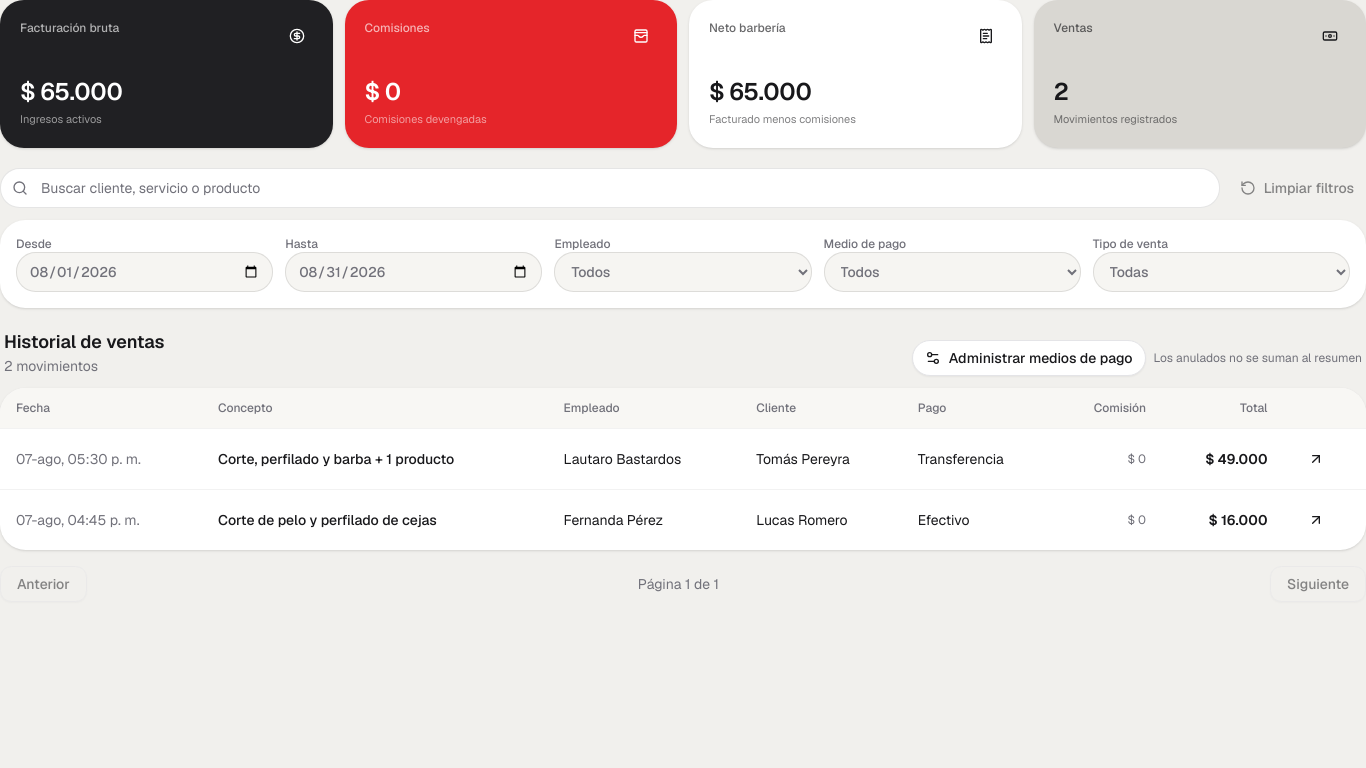
Test: IncomesView (manager) › keeps detail and exposes retry when voiding fails
Click the button named "abrir ingreso".
click(1316, 459)  # box [1300,443,1332,475]
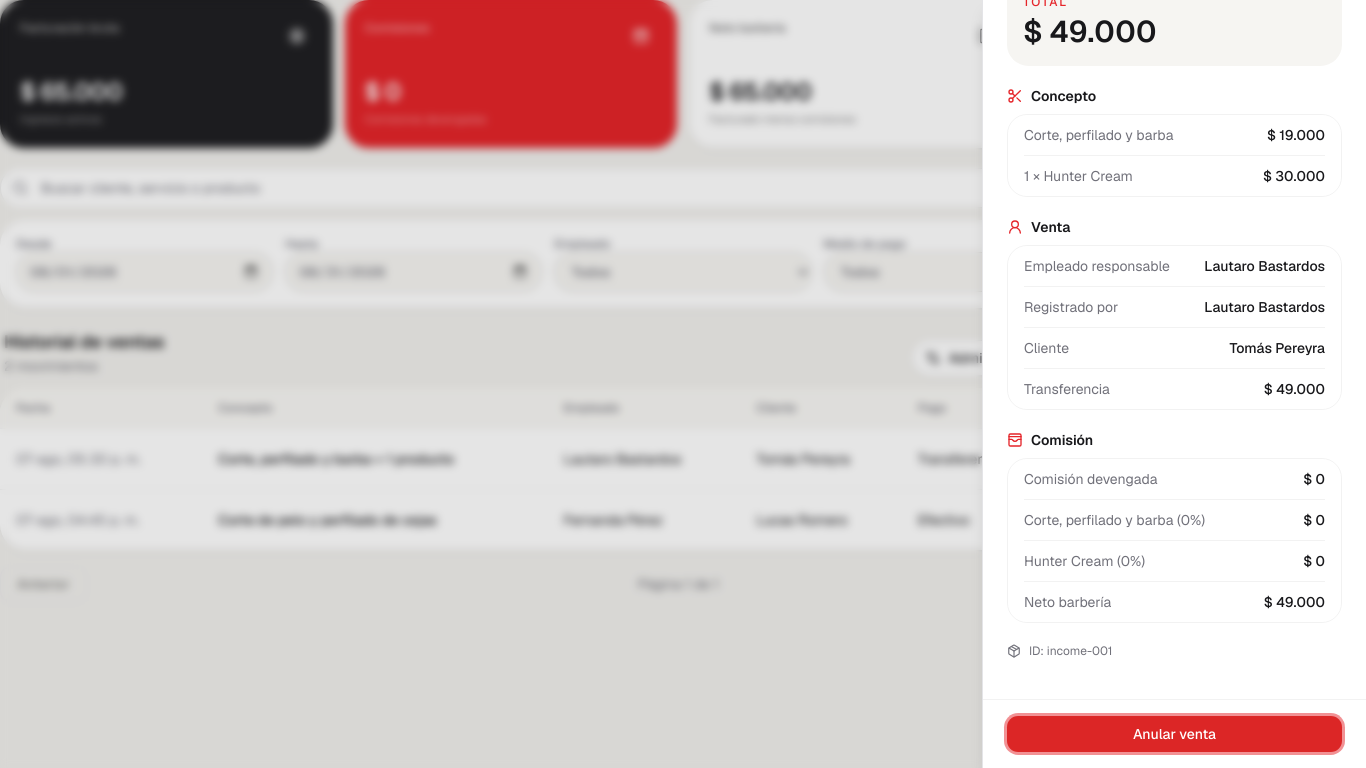
Click the button "Anular venta".
click(1174, 734)  # box [1007,716,1342,752]
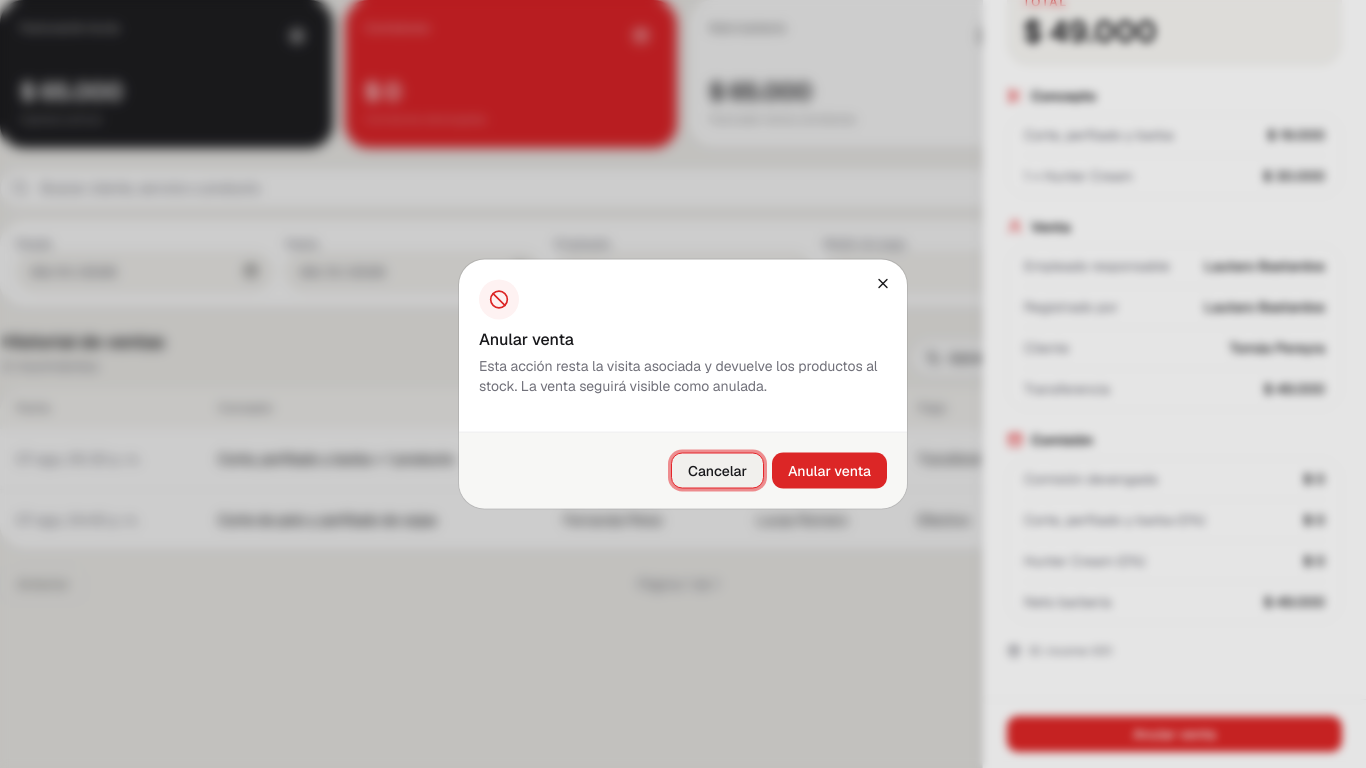
Click the button "Anular venta".
click(830, 470)  # box [772,452,887,488]
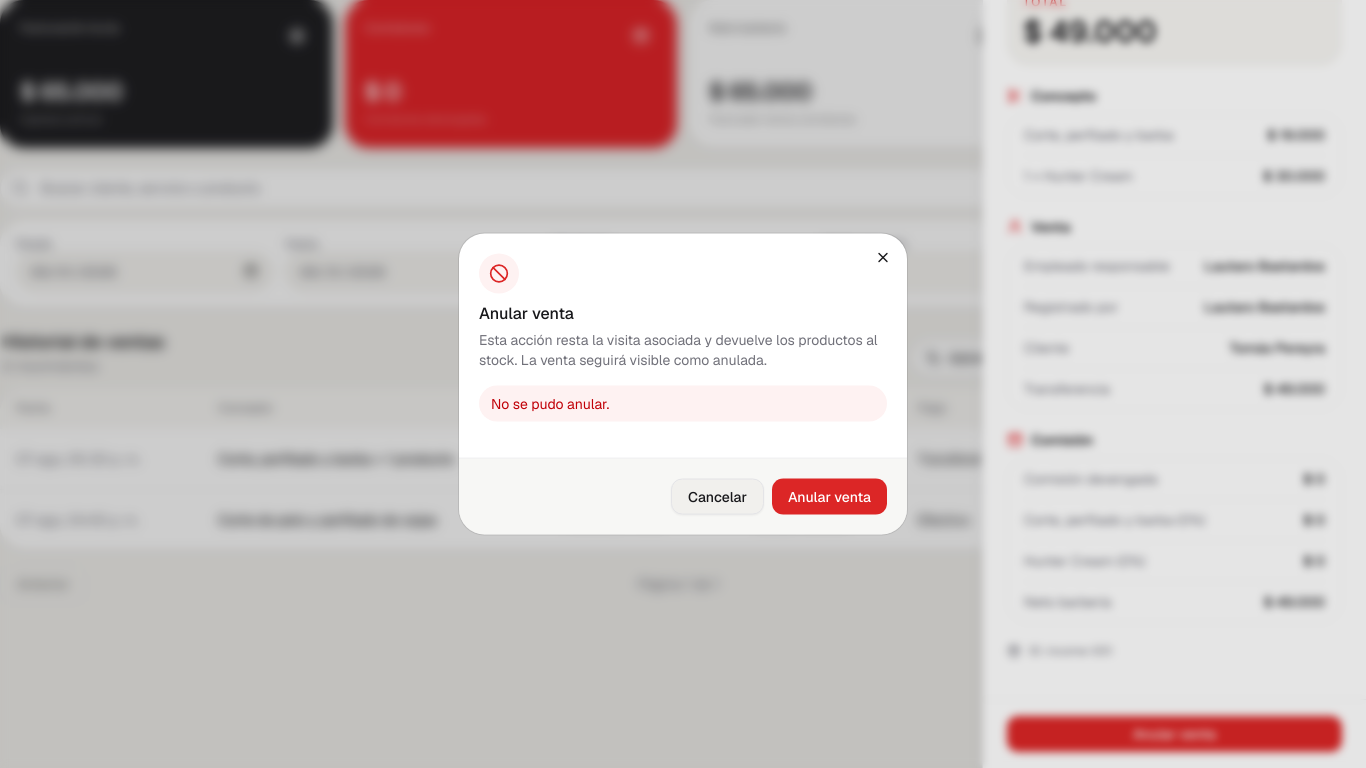
expect the dialog "Anular venta" is shown: met, box [459,234,907,534]
expect the message reads "No se pudo anular.": met, box [491,394,609,412]
